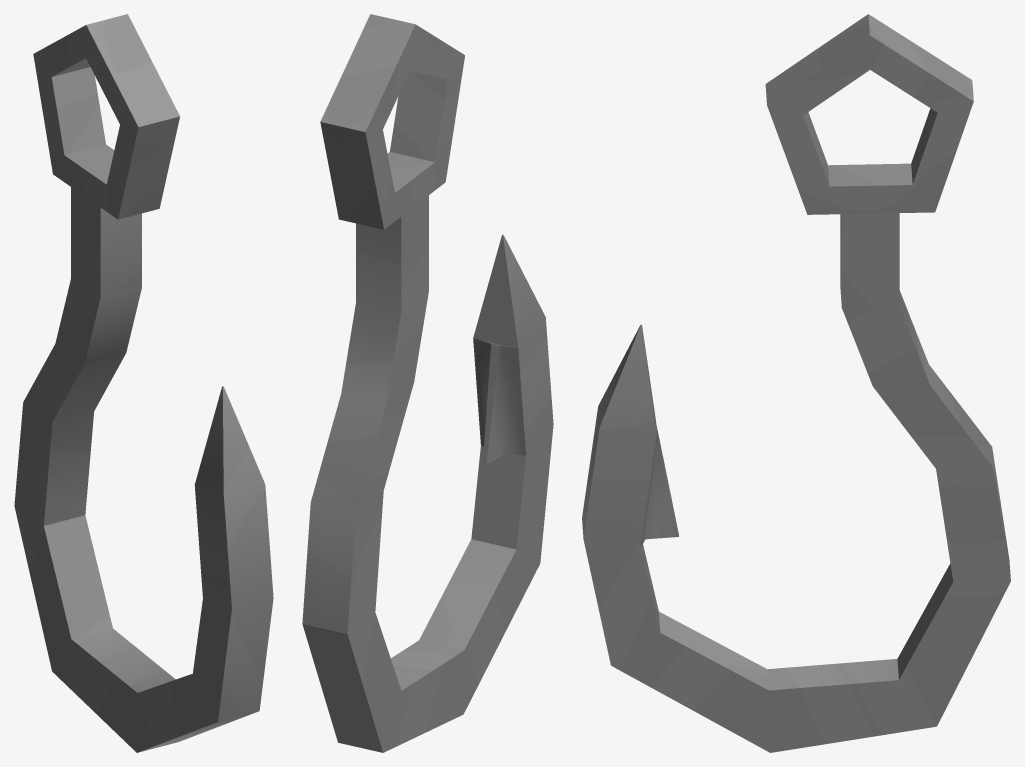
The model's file is Hook.fbx.
3 renders of one model, left to right at view 1: azimuth 30°, elevation 25°; view 2: azimuth 150°, elevation 25°; view 3: azimuth 270°, elevation 25°, orthographic. The views are drawn at different scales.
Parts seen in each view (by area): view 1: Vishaak; view 2: Vishaak; view 3: Vishaak.
Part boxes in pixels (x1,y1,x2,y2): Vishaak: (14, 14, 273, 752); Vishaak: (302, 14, 553, 752); Vishaak: (582, 14, 1010, 752).
Size of the model in its own units: 0.057 by 0.7129 by 0.3869.
